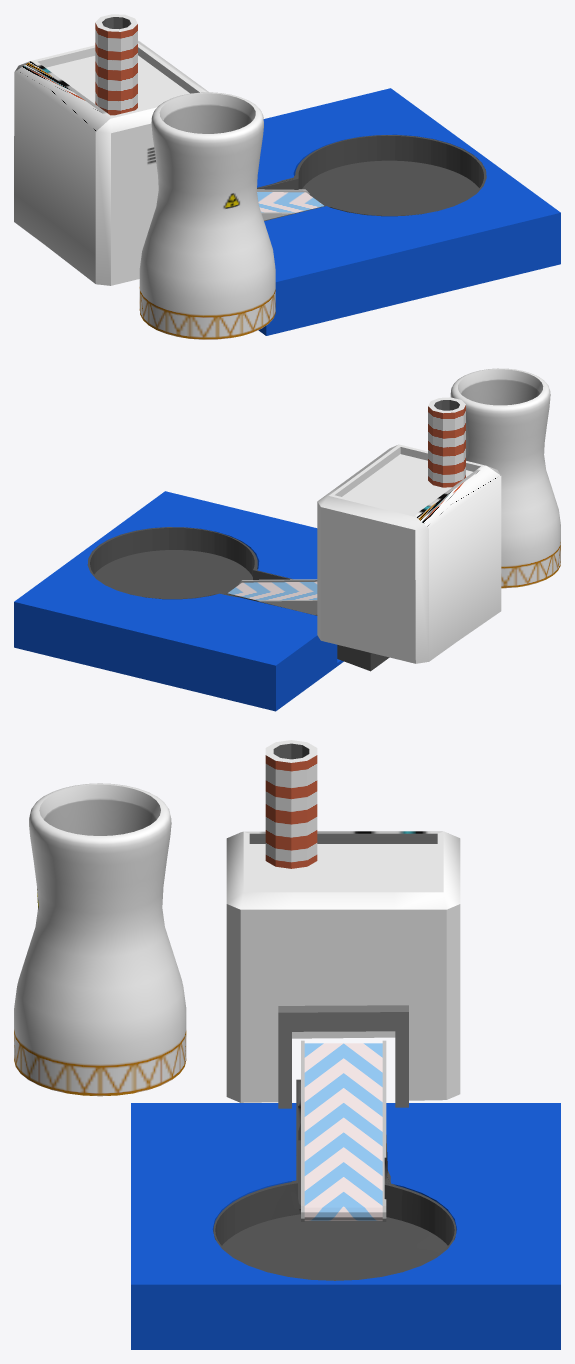
File: station-mini.fbx
The picture shows the model from 3 angles, top to bottom: view 1: azimuth 30°, elevation 25°; view 2: azimuth 150°, elevation 25°; view 3: azimuth 270°, elevation 25°; orthographic projection. The views are drawn at different scales.
Parts seen in each view (by area): view 1: Cube, Cube.038_Cube.103, Cube.038_Cube.001, Cube.001, Cube.038_Cube.002, Cylinder; view 2: Cube, Cube.038_Cube.103, Cube.038_Cube.001, Cube.001, Cube.038_Cube.002, Cylinder; view 3: Cube, Cube.038_Cube.103, Cube.038_Cube.001, Cube.001, Cylinder, Cube.038_Cube.002.
Part boxes in pixels (x1=…): Cube: x1=257, y1=88, x2=560, y2=335; Cube.038_Cube.103: x1=14, y1=40, x2=208, y2=285; Cube.038_Cube.001: x1=139, y1=92, x2=275, y2=339; Cube.001: x1=257, y1=135, x2=486, y2=221; Cube.038_Cube.002: x1=95, y1=14, x2=137, y2=115; Cylinder: x1=257, y1=189, x2=323, y2=220; Cube: x1=14, y1=491, x2=343, y2=711; Cube.038_Cube.103: x1=317, y1=444, x2=501, y2=663; Cube.038_Cube.001: x1=450, y1=368, x2=560, y2=588; Cube.001: x1=87, y1=527, x2=389, y2=671; Cube.038_Cube.002: x1=428, y1=397, x2=465, y2=487; Cylinder: x1=228, y1=579, x2=317, y2=614; Cube: x1=131, y1=1103, x2=560, y2=1349; Cube.038_Cube.103: x1=226, y1=831, x2=460, y2=1108; Cube.038_Cube.001: x1=14, y1=783, x2=186, y2=1096; Cube.001: x1=213, y1=1079, x2=456, y2=1280; Cylinder: x1=301, y1=1040, x2=386, y2=1221; Cube.038_Cube.002: x1=265, y1=740, x2=317, y2=868.
Bounding box in the file's own units: 1163 × 753 × 1027.
Materials: 6 (2 with a texture image).
